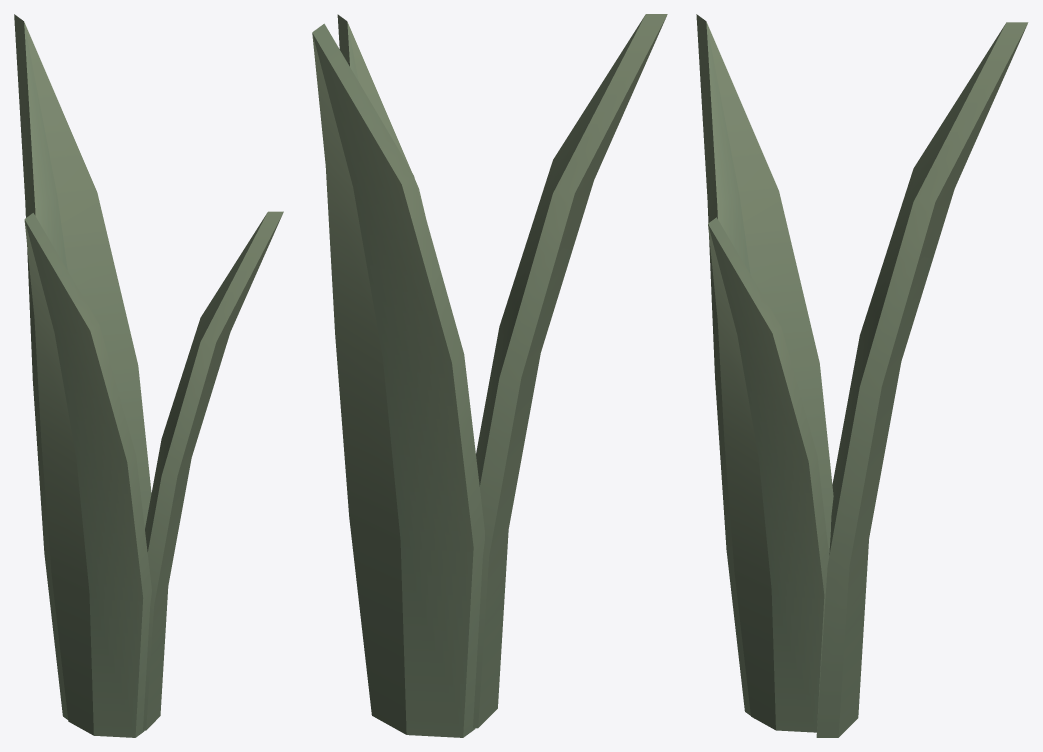
The model's file is Grass_2_B.glb.
3 renders of one model, left to right at view 1: azimuth 30°, elevation 25°; view 2: azimuth 150°, elevation 25°; view 3: azimuth 270°, elevation 25°, orthographic. The views are drawn at different scales.
Visible parts, largest first — view 1: Grass_2_B_Color1; view 2: Grass_2_B_Color1; view 3: Grass_2_B_Color1.
Boxes of the visible parts, box(x1,y1,x2,y2) form: Grass_2_B_Color1: box(14, 14, 283, 737); Grass_2_B_Color1: box(312, 14, 667, 737); Grass_2_B_Color1: box(696, 14, 1028, 737).
Bounding box in the file's own units: 0.4035 × 0.9188 × 0.3974.
1 material, 1 textured.
